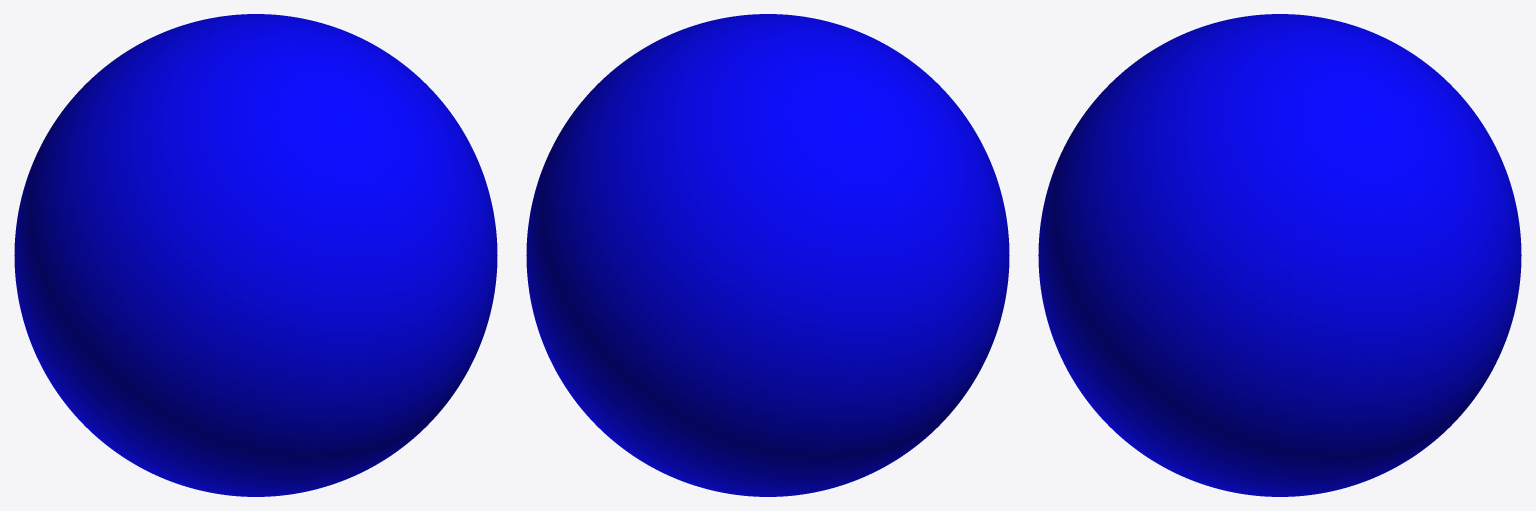
3 views of the same model, side by side, from view 1: azimuth 30°, elevation 25°; view 2: azimuth 150°, elevation 25°; view 3: azimuth 270°, elevation 25° (orthographic).
Visible parts, largest first — view 1: Quad Sphere; view 2: Quad Sphere; view 3: Quad Sphere.
Part boxes in pixels (x1,y1,x2,y2): Quad Sphere: [14, 14, 497, 496]; Quad Sphere: [526, 14, 1009, 496]; Quad Sphere: [1038, 14, 1521, 496].
Bounding box in the file's own units: 2.57 × 2.57 × 2.57.
